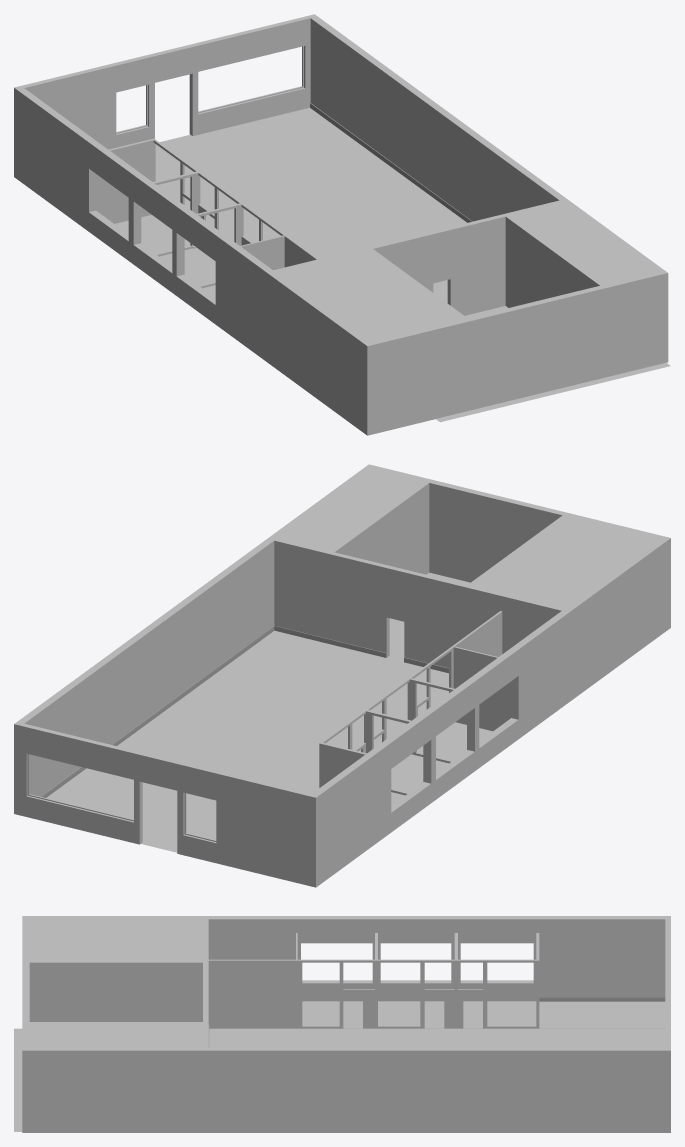
File: building.FBX
3 renders of one model, top to bottom at view 1: azimuth 30°, elevation 25°; view 2: azimuth 150°, elevation 25°; view 3: azimuth 270°, elevation 25°, orthographic. The views are drawn at different scales.
Parts seen in each view (by area): view 1: walls, ground, offices; view 2: walls, ground, offices; view 3: walls, ground, offices.
Part boxes in pixels (x1,y1,x2,y2): walls: (14,14,668,435); ground: (115,107,670,422); offices: (96,138,318,288); walls: (14,464,670,887); ground: (46,572,492,852); offices: (319,611,511,795); walls: (22,916,670,1132); ground: (14,1001,665,1131); offices: (208,933,539,1028).
Size of the model in its own units: 16.81 by 4.8 by 34.67.
